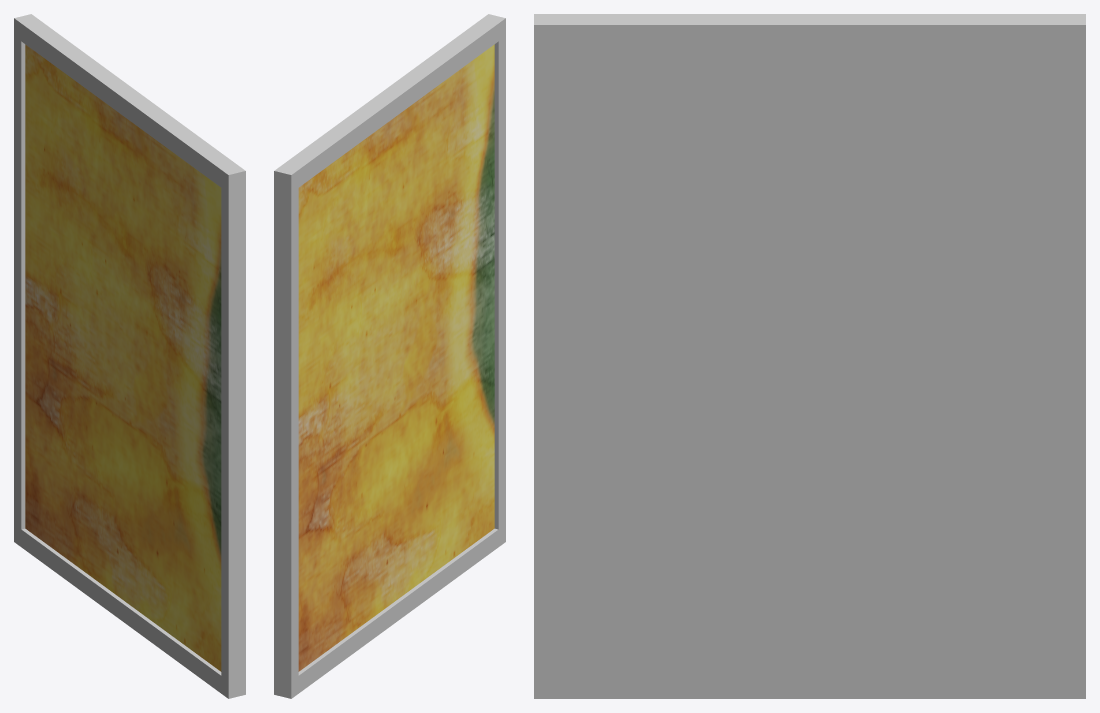
File: Eye_Painting.fbx
The picture shows the model from 3 angles, left to right: view 1: azimuth 30°, elevation 25°; view 2: azimuth 150°, elevation 25°; view 3: azimuth 270°, elevation 25°; orthographic projection. The views are drawn at different scales.
Visible parts, largest first — view 1: Painting 2; view 2: Painting 2; view 3: Painting 2.
Boxes of the visible parts, left/top/right/bottom form: Painting 2: left=14, top=14, right=245, bottom=698; Painting 2: left=274, top=14, right=505, bottom=698; Painting 2: left=534, top=14, right=1085, bottom=698.
Size of the model in its own units: 4.22 by 122 by 90.53.
2 materials, 1 textured.
